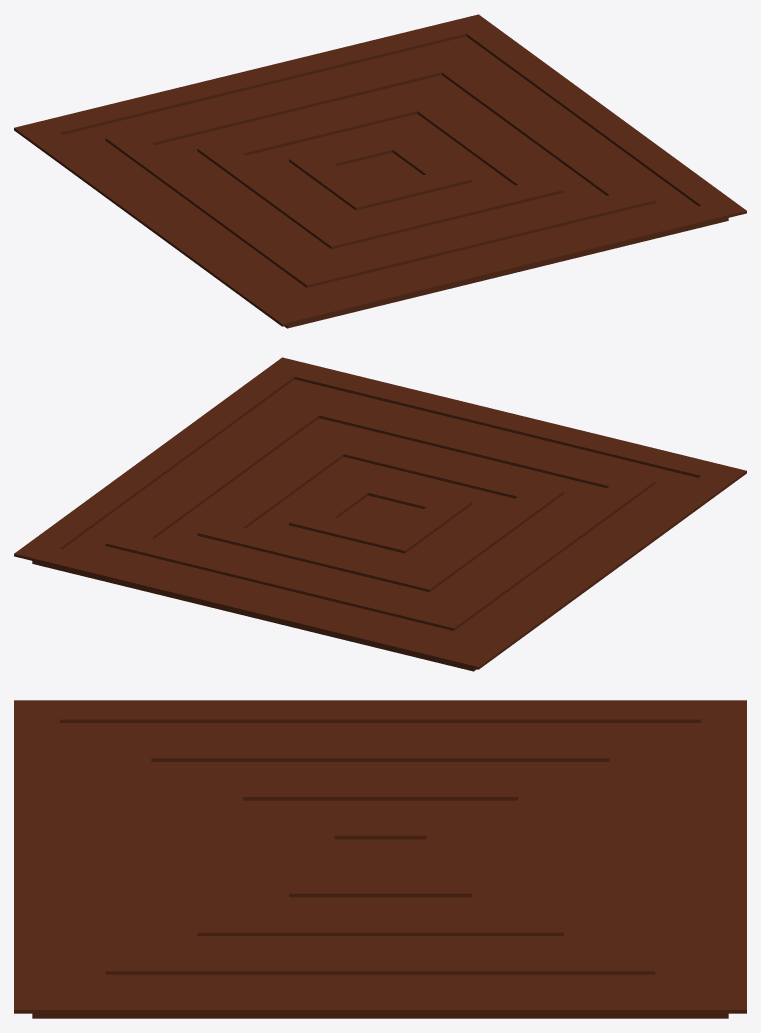
The model's file is Floor1.fbx.
3 renders of one model, top to bottom at view 1: azimuth 30°, elevation 25°; view 2: azimuth 150°, elevation 25°; view 3: azimuth 270°, elevation 25°, orthographic. The views are drawn at different scales.
Parts seen in each view (by area): view 1: Plane.086; view 2: Plane.086; view 3: Plane.086.
Boxes of the visible parts, x1,y1,x2,y2 form: Plane.086: [14, 14, 746, 328]; Plane.086: [14, 357, 746, 671]; Plane.086: [14, 700, 746, 1018].
Bounding box in the file's own units: 4000 × 122 × 4000.
